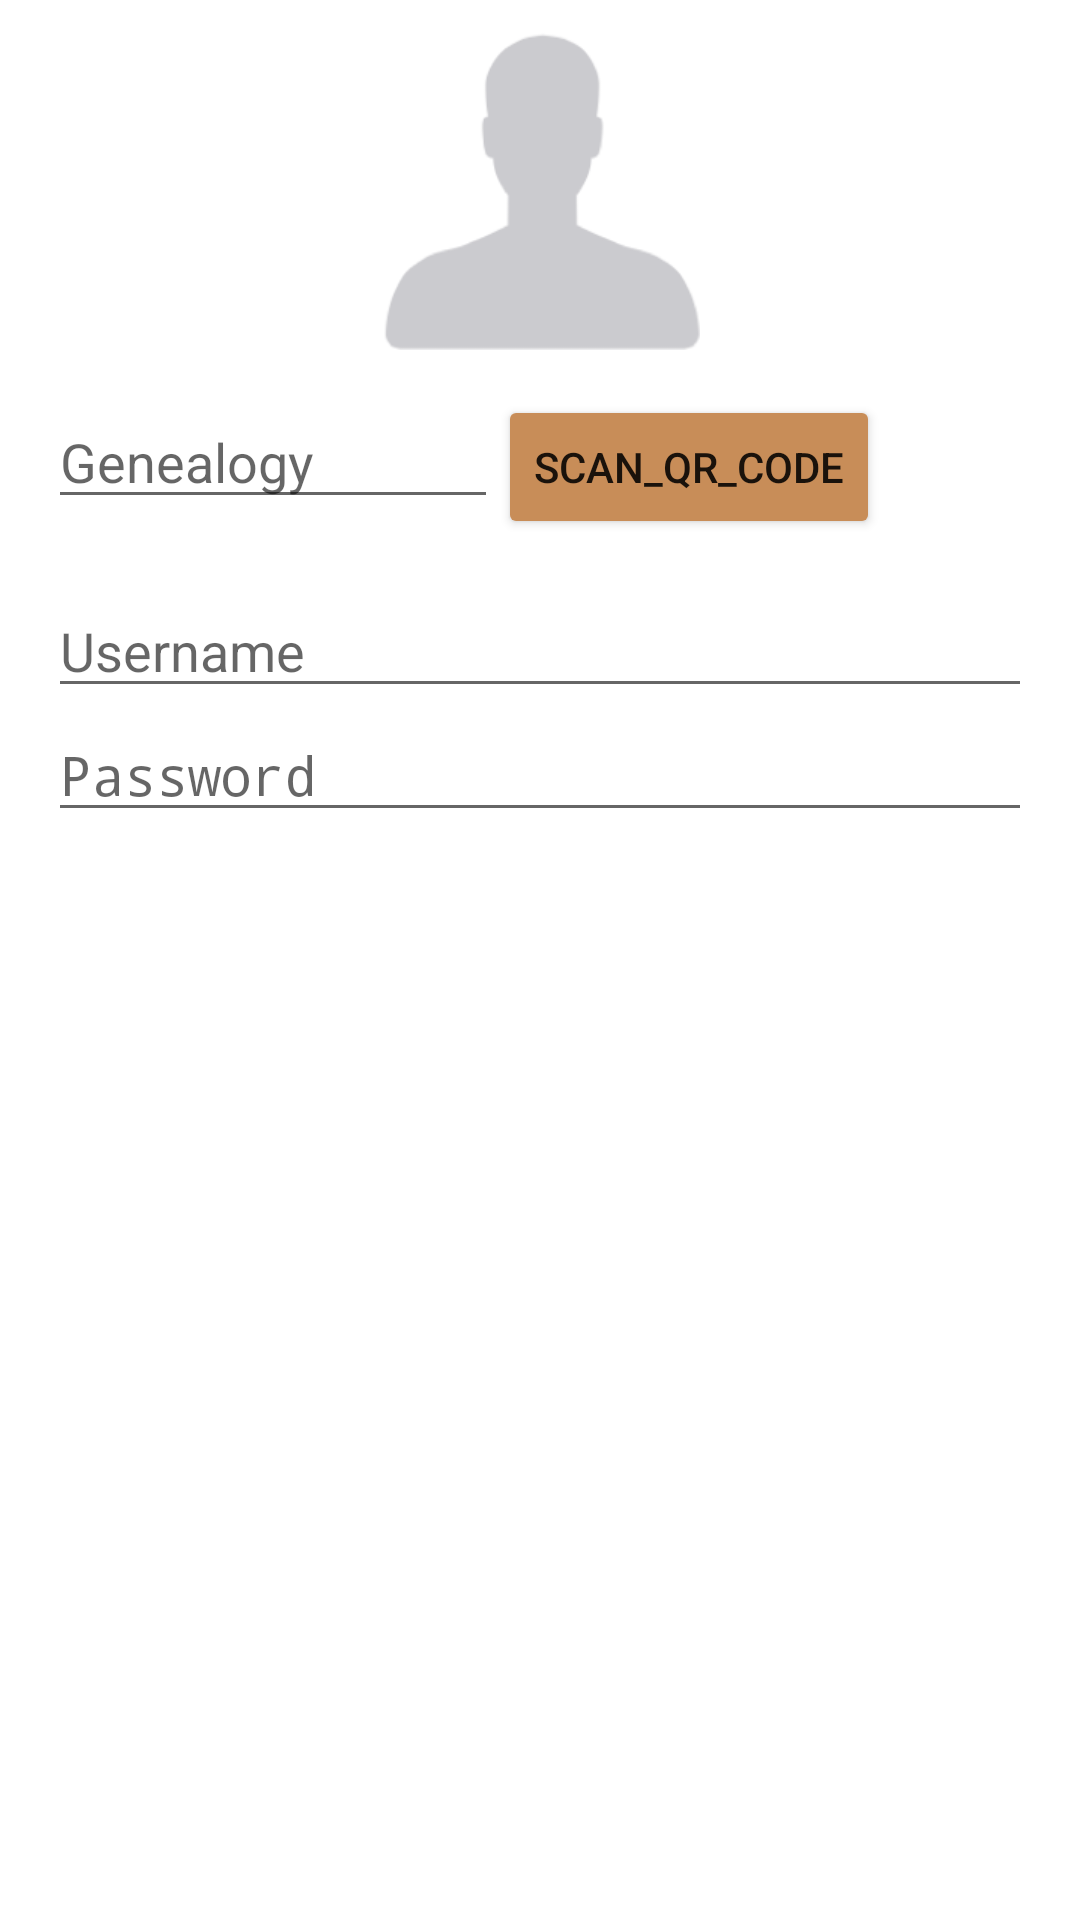

Icons on this 1080 x 1920 Android screen, each with its box as (x1, y1, x2, y2):
user: (386, 35, 700, 349)
